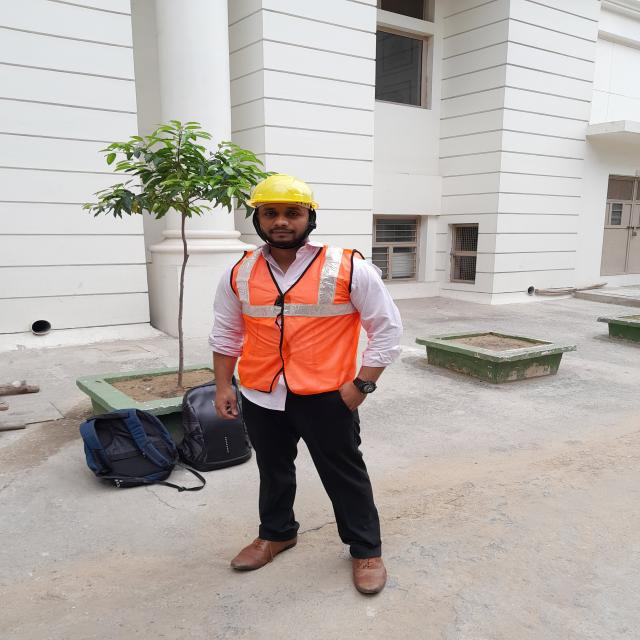safe: (209, 174, 404, 591)
